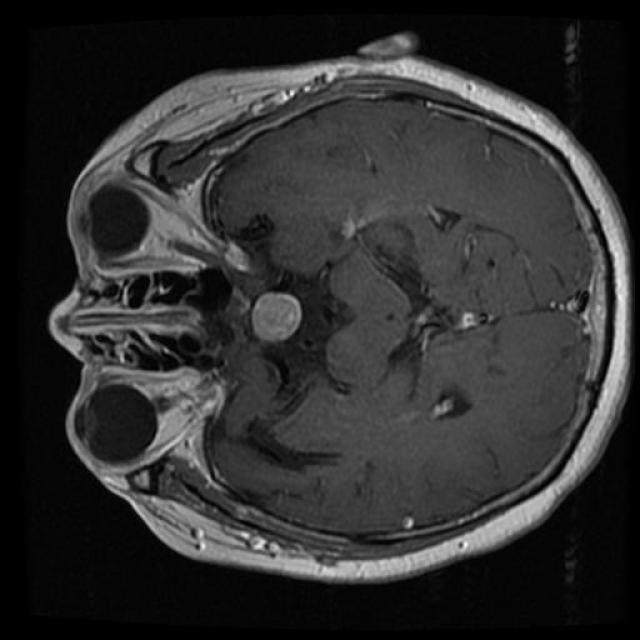Pituitary: (238, 262, 353, 397)
